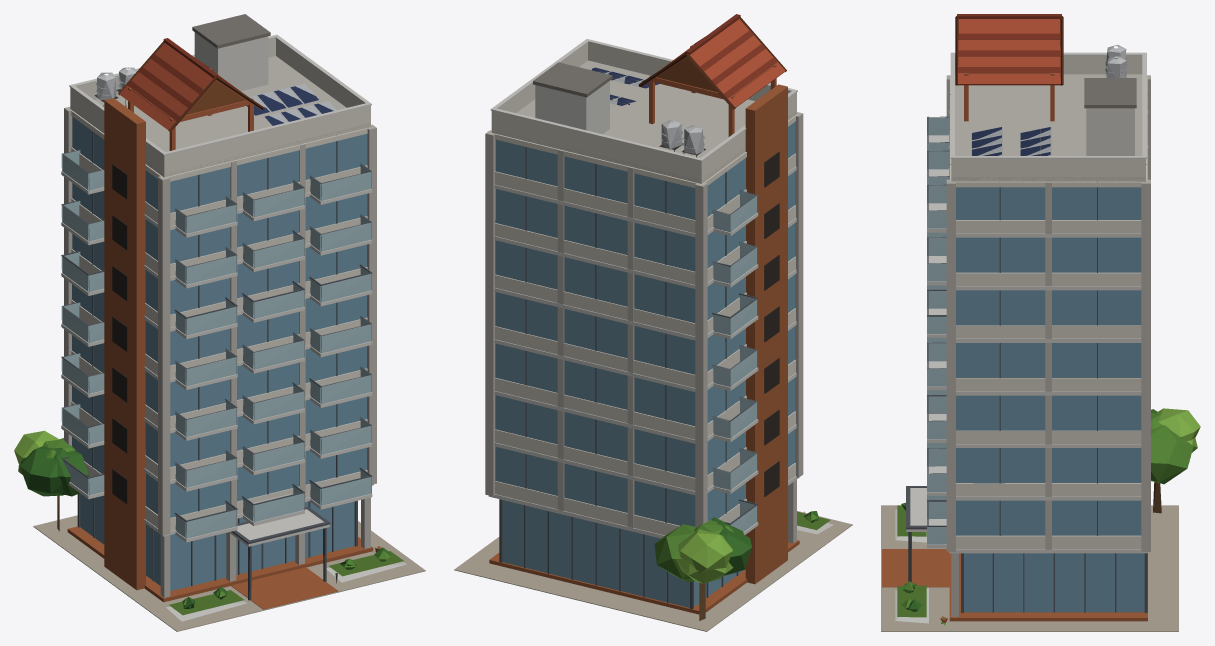
Rendered from home_4.glb.
The picture shows the model from 3 angles, left to right: view 1: azimuth 30°, elevation 25°; view 2: azimuth 150°, elevation 25°; view 3: azimuth 270°, elevation 25°; orthographic projection. The views are drawn at different scales.
Visible parts, largest first — view 1: body, windows; view 2: body, windows; view 3: body.
Boxes of the visible parts, <box> form: body: <box>14,14,425,631</box>; windows: <box>112,164,337,575</box>; body: <box>454,14,852,631</box>; windows: <box>764,151,779,496</box>; body: <box>881,14,1200,631</box>.
Size of the model in its own units: 17.42 by 31.45 by 17.07.
